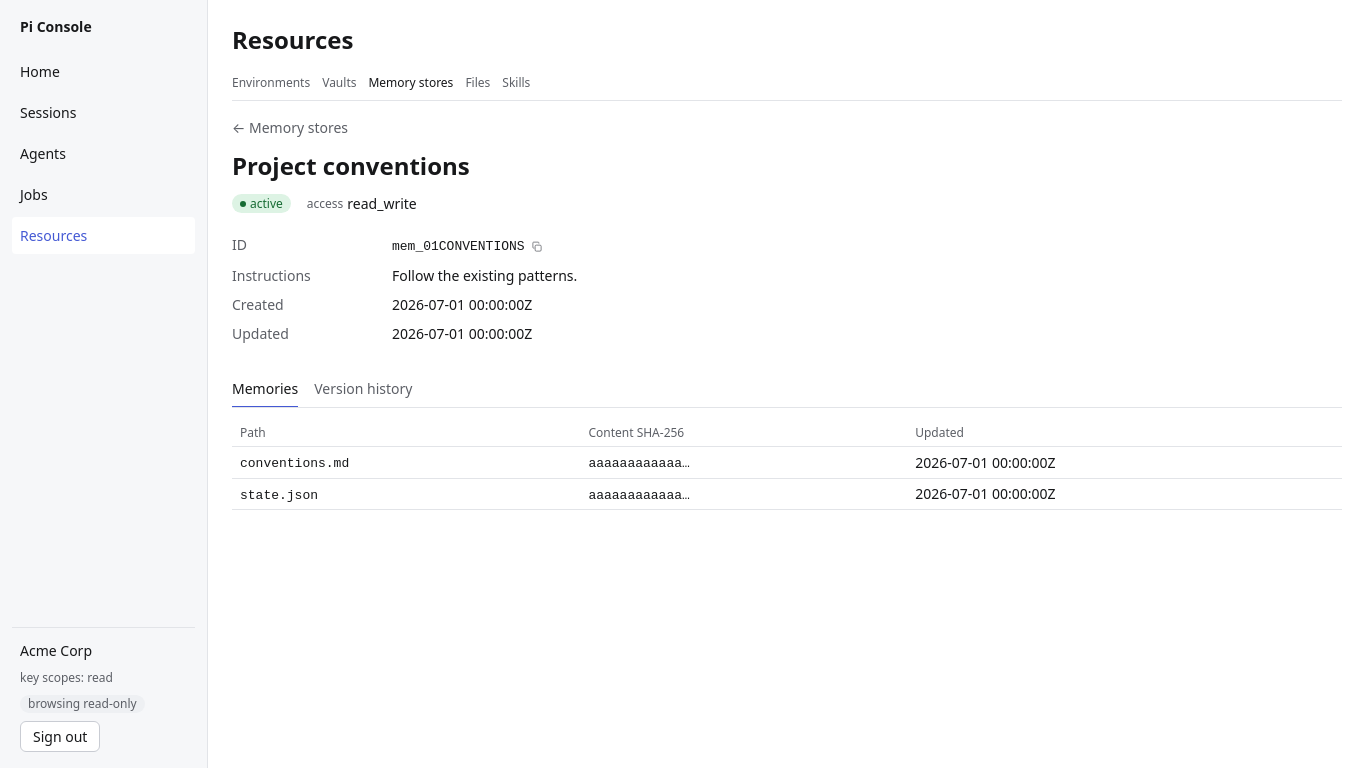
Test: memory store detail (§9.5) › renders a JSON memory in the JsonViewer
Click the text "state.json" at coordinates (279, 495), box [240,488,318,503]
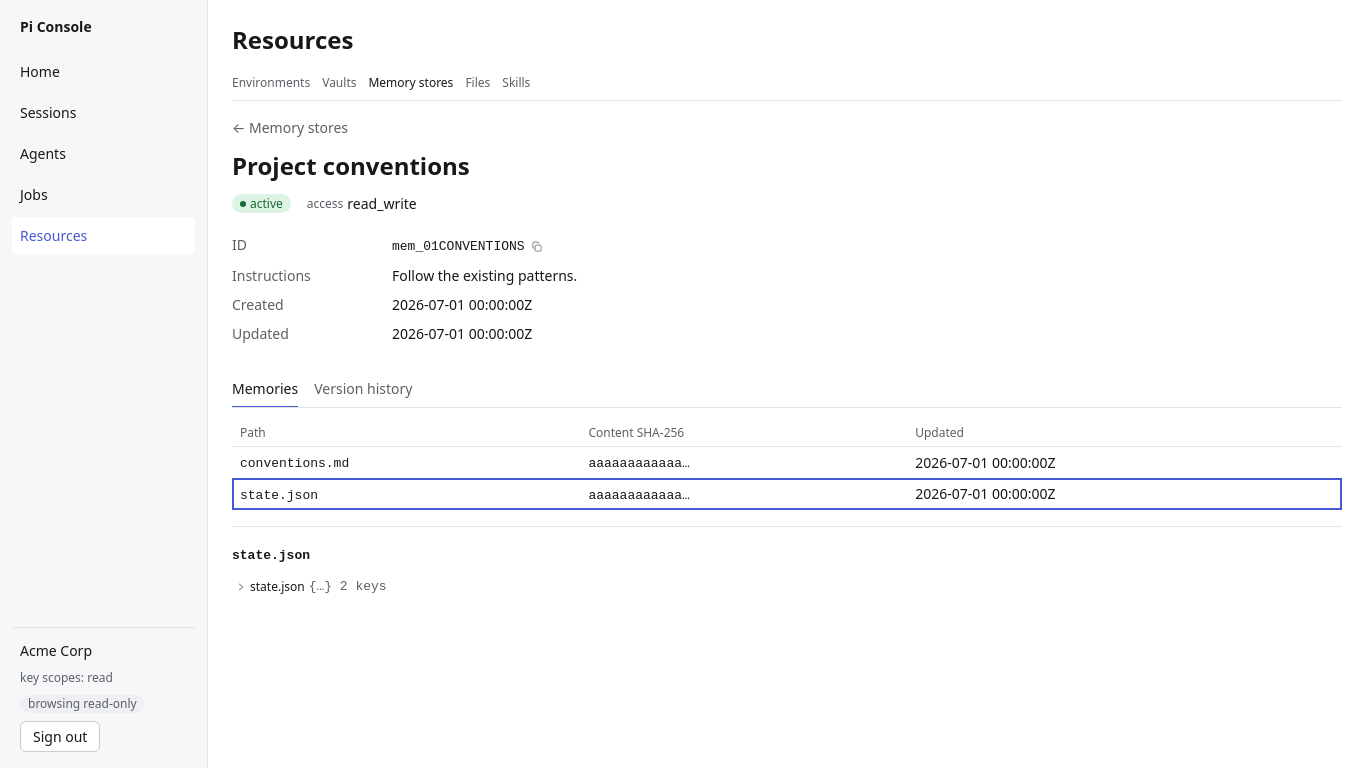
Click the button "state.json {…} 2 keys" at coordinates (311, 587), box [232,574,391,599]
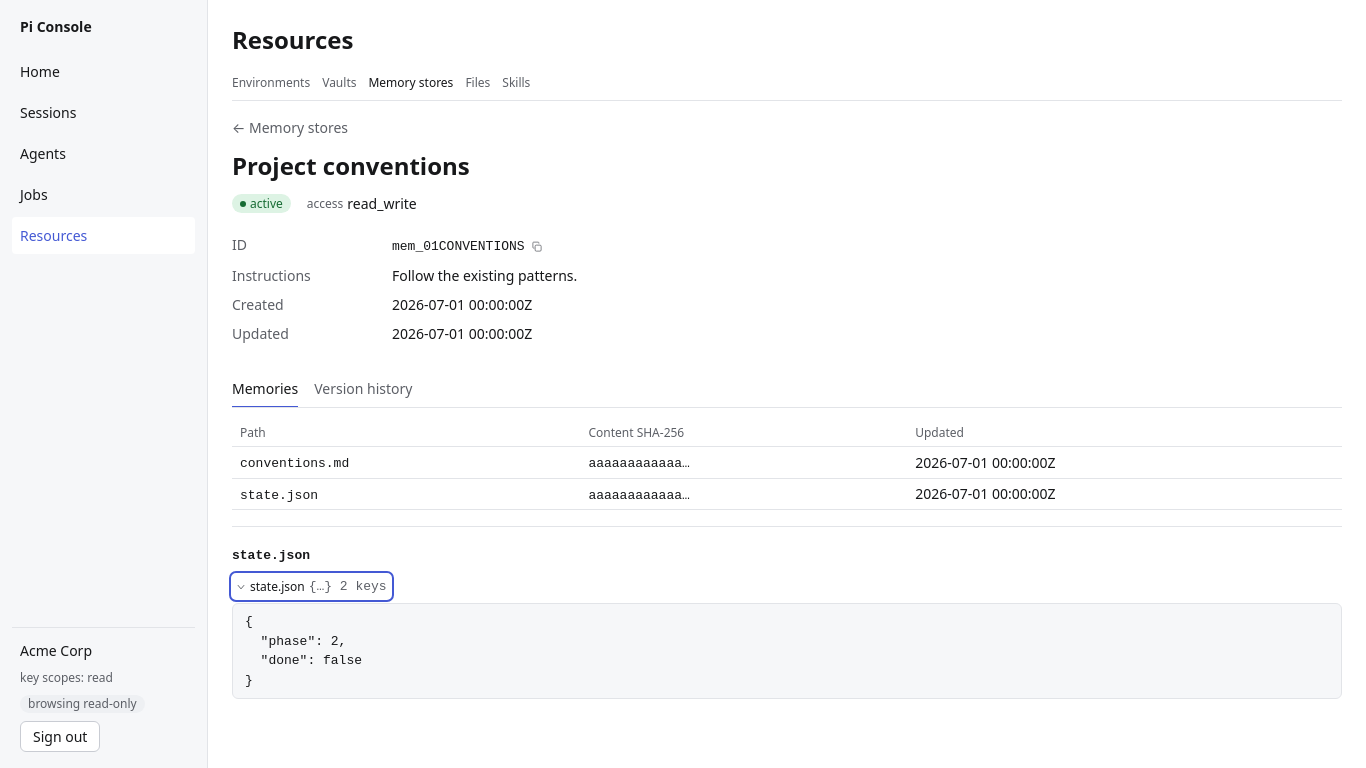
Now the text "{ \"phase\": 2, \"done\": false }" is shown, box [232,603,1342,699]
